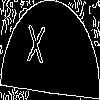X: (25, 24, 46, 73)
